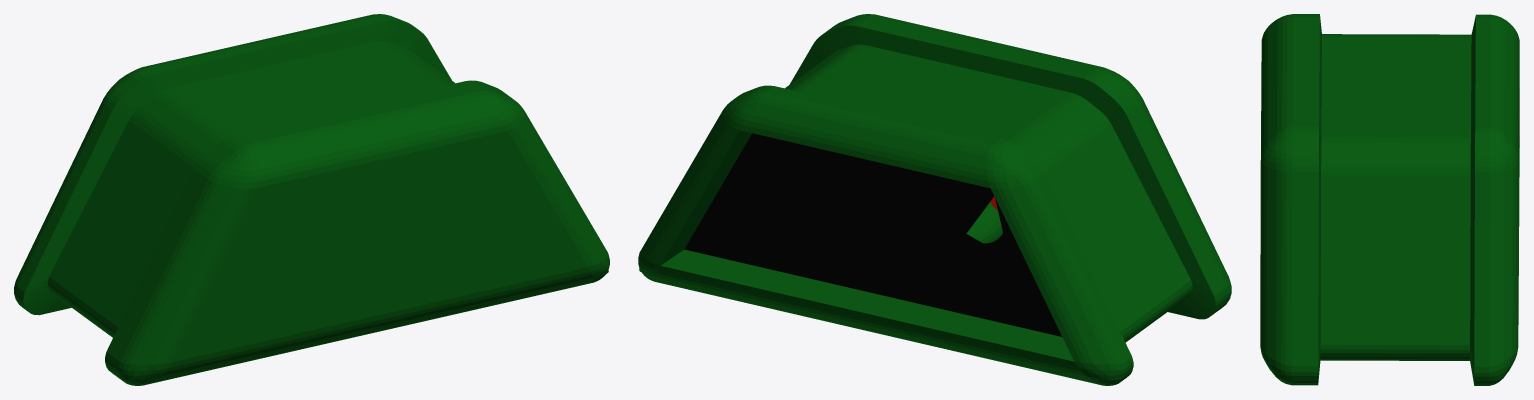
File: ミサイルランチャー.fbx
3 renders of one model, left to right at view 1: azimuth 30°, elevation 25°; view 2: azimuth 150°, elevation 25°; view 3: azimuth 270°, elevation 25°, orthographic. The views are drawn at different scales.
Visible parts, largest first — view 1: 立方体; view 2: 立方体; view 3: 立方体.
Part boxes in pixels (x1,y1,x2,y2): 立方体: (14,14,609,385); 立方体: (638,14,1231,385); 立方体: (1260,14,1519,385).
Size of the model in its own units: 201 by 86.41 by 97.
